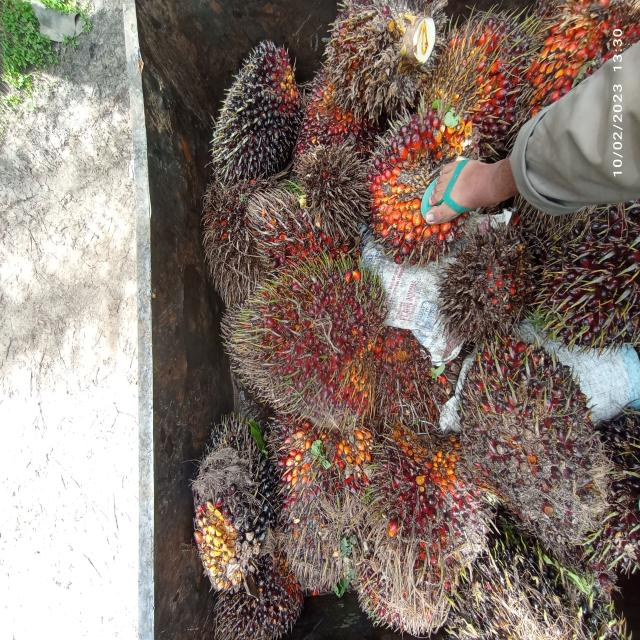fraksi 00: (198, 32, 331, 198), (182, 417, 282, 583), (200, 550, 316, 640)
fraksi 1: (455, 322, 630, 556), (372, 432, 494, 591), (286, 67, 378, 174)
fraksi 3: (224, 256, 405, 439), (420, 5, 548, 174), (351, 92, 474, 266)
fraksi 4: (535, 0, 636, 116), (243, 186, 335, 284)
